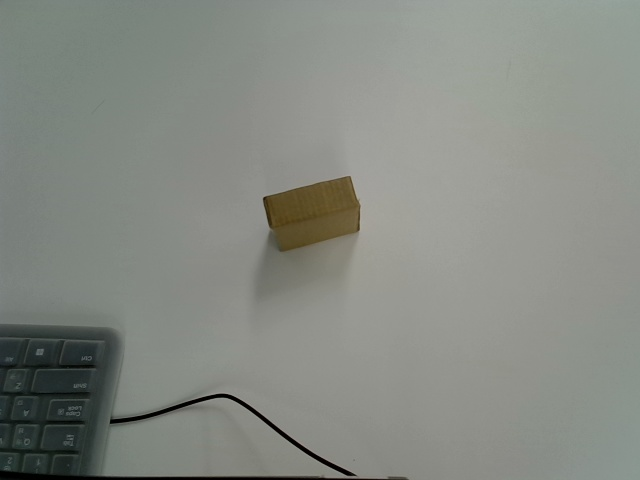normal: (263, 175, 362, 252)
